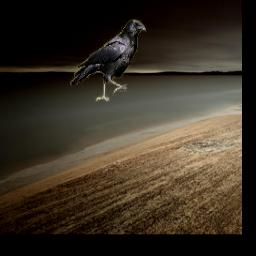Crow: (71, 19, 148, 102)
